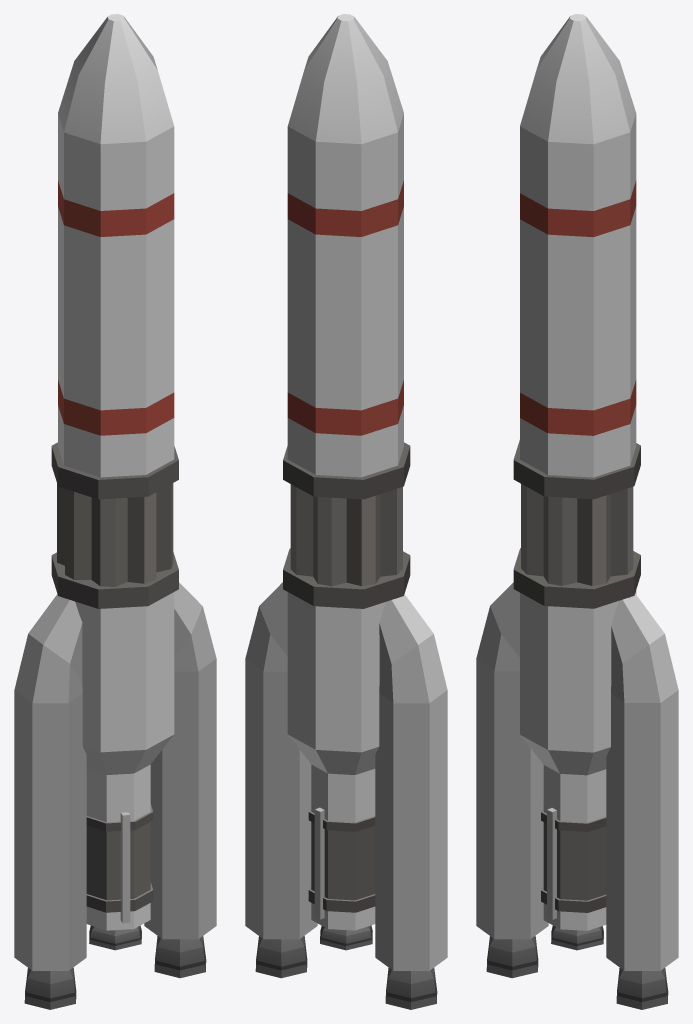
File: rocket.glb
3 views of the same model, side by side, from view 1: azimuth 30°, elevation 25°; view 2: azimuth 150°, elevation 25°; view 3: azimuth 330°, elevation 25° (orthographic).
Visible parts, largest first — view 1: Rocket; view 2: Rocket; view 3: Rocket.
Boxes of the visible parts, x1,y1,x2,y2 form: Rocket: [14, 14, 216, 1009]; Rocket: [245, 14, 447, 1009]; Rocket: [476, 14, 678, 1009].
Size of what is drawn, in the model's own units: 6 by 30 by 3.72.
1 material, 1 textured.
